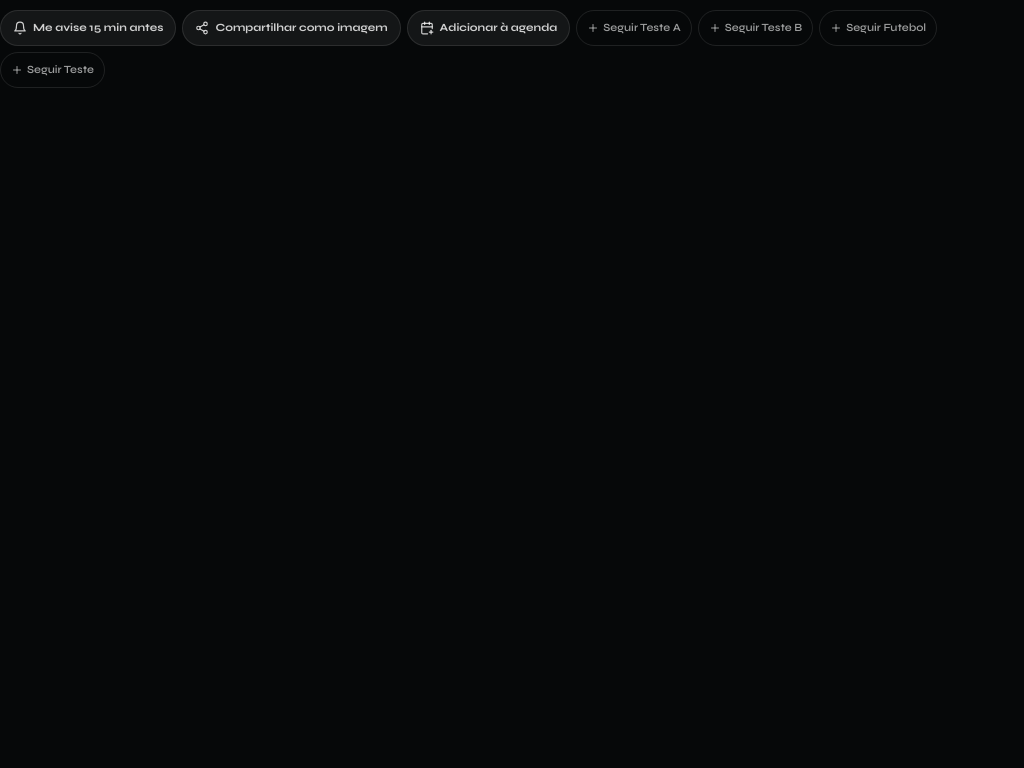
Test: GameActions — ajuda de permissão do sino › permissão denied: abre o diálogo de ajuda SEM chamar o lembrete (sem novo requestPermission)
This screenshot has width=1024, height=768.
Click the button with aria-label "Me avise 15 min antes de Teste A". click: point(88, 28)
box: [0,10,176,46]
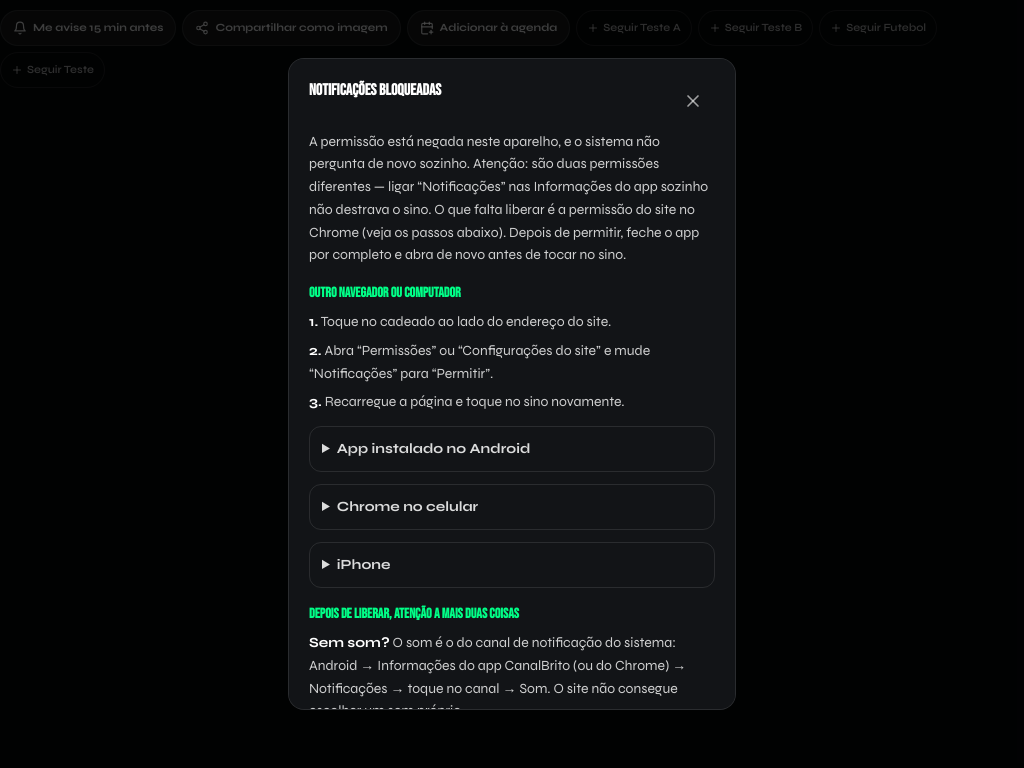
Expected: the dialog "Notificações bloqueadas" is shown
